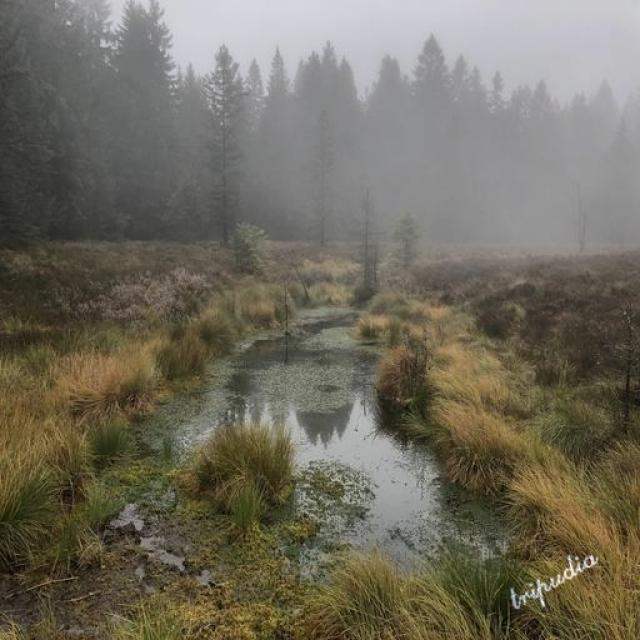watermark: (508, 537, 598, 614)
